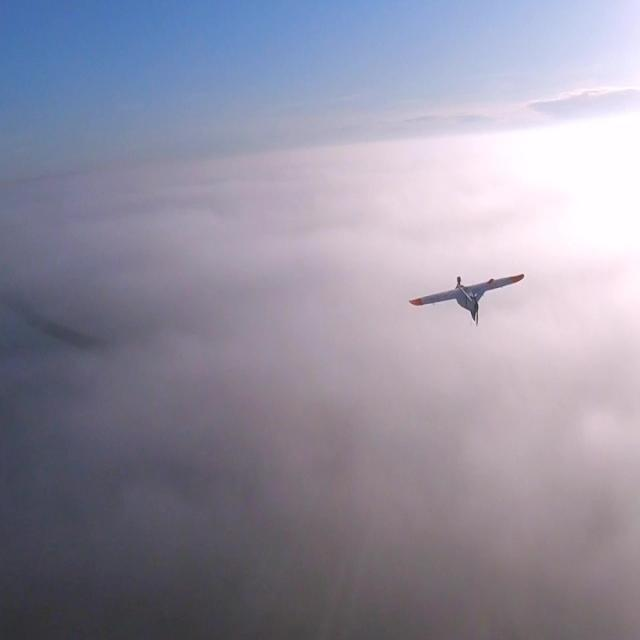iha: (440, 271, 494, 328)
